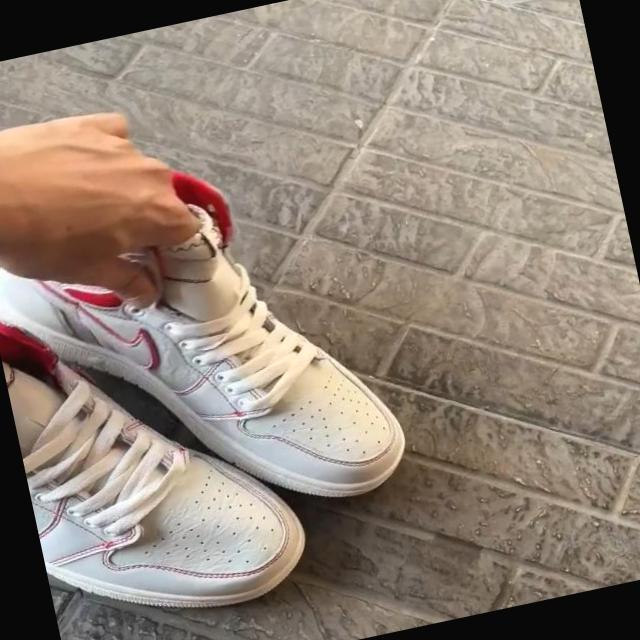nike_fake_jordan: (0, 152, 420, 558), (0, 259, 317, 640)
